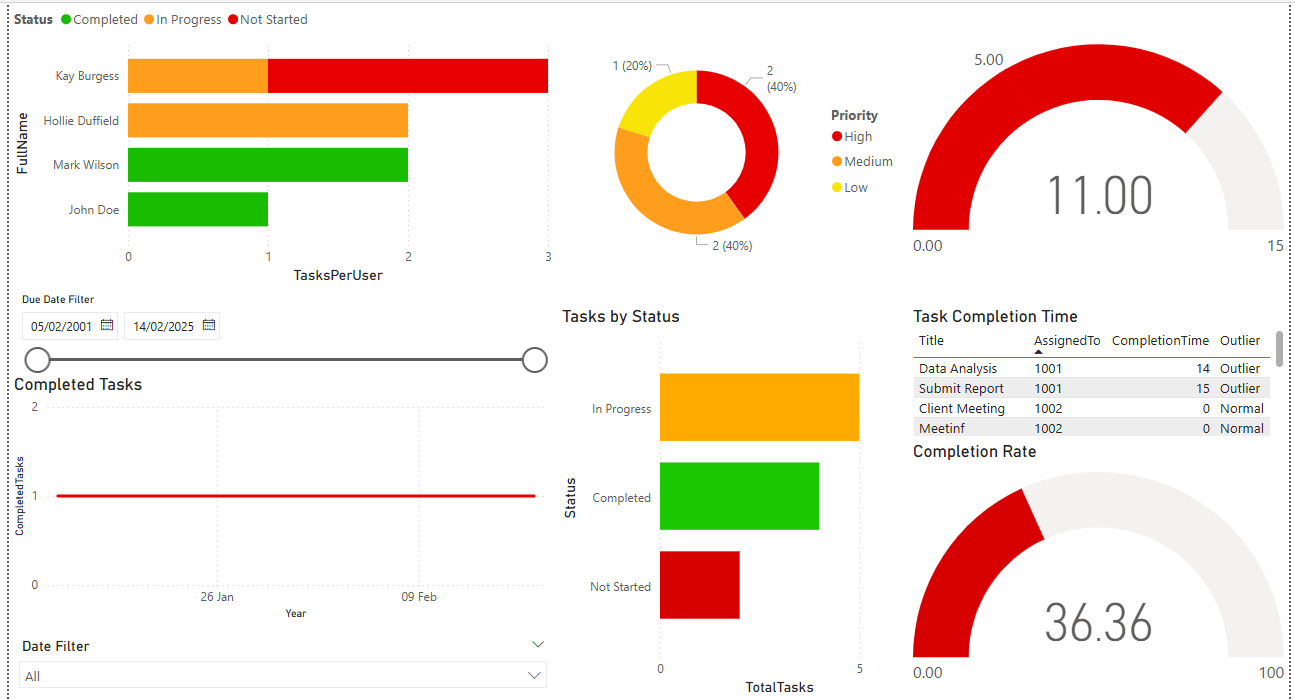

What the dashboard file says about the page in this screenshot:
{"tool":"powerbi","page":{"name":"Page 1","canvas":[1280,720],"ordinal":0},"visuals":[{"type":"donutChart","title":"Overdue Tasks","fields":{"Y":["cr862_tasks.OverdueTasks"],"Category":["cr862_tasks.Priority"]},"box":[547.5,0,351.2,326.2],"z":0},{"type":"barChart","title":"User Tasks","fields":{"Y":["cr862_tasks.TasksPerUser"],"Category":["cr862_users.FullName"],"Series":["cr862_tasks.Status"]},"box":[0,0,547.5,307.5],"z":1000},{"type":"gauge","title":"Average Completion Times (Days)","fields":{"Y":["cr862_tasks.AvgCompletionTime"],"TargetValue":["cr862_tasks.IdealCompletionTime"],"MaxValue":["cr862_tasks.MaxCompletionTime"]},"box":[898.8,0,381.2,326.2],"z":2000},{"type":"barChart","title":"Tasks by Status","fields":{"Category":["cr862_tasks.Status"],"Y":["cr862_tasks.TotalTasks"]},"box":[547.5,326.2,351.2,393.8],"z":3000},{"type":"lineChart","title":"Completed Tasks","fields":{"Y":["cr862_tasks.CompletedTasks"],"Category":["cr862_taskactivitylogtable.Date Submitted.Variation.Date Hierarchy.Year","cr862_taskactivitylogtable.Date Submitted.Variation.Date Hierarchy.Quarter","cr862_taskactivitylogtable.Date Submitted.Variation.Date Hierarchy.Month","cr862_taskactivitylogtable.Date Submitted.Variation.Date Hierarchy.Day"]},"box":[0,393.8,547.5,250],"z":4000},{"type":"slicer","fields":{"Values":["cr862_tasks.MonthYear","cr862_tasks.WeekNumber"]},"box":[0,652.5,547.5,67.5],"z":5000},{"type":"slicer","fields":{"Values":["cr862_tasks.DueDate"]},"box":[0,307.5,547.5,86.2],"z":6000},{"type":"gauge","title":"Completion Rate","fields":{"Y":["cr862_tasks.CompletionRate"],"MaxValue":["cr862_tasks.Percentage"]},"box":[898.8,461.2,381.2,258.8],"z":7000},{"type":"tableEx","title":"Task Completion Time","fields":{"Values":["cr862_tasks.Title 2","cr862_tasks.AssignedTo","cr862_tasks.ActualCompletionTime","cr862_tasks.IsOutlier"]},"box":[898.8,326.2,381.2,135],"z":8000}]}

Visuals, with their boxes on the page's 1280x720 design canvas (x1, y1, x2, y2). These are canvas units, not pixel positions in the 1295x699 screenshot, which may show the page scaled, cropped or inside an application window:
"Overdue Tasks" donutChart: pyautogui.locateOnScreen(548, 0, 899, 326)
"User Tasks" barChart: pyautogui.locateOnScreen(0, 0, 548, 308)
"Average Completion Times (Days)" gauge: pyautogui.locateOnScreen(899, 0, 1280, 326)
"Tasks by Status" barChart: pyautogui.locateOnScreen(548, 326, 899, 720)
"Completed Tasks" lineChart: pyautogui.locateOnScreen(0, 394, 548, 644)
slicer - cr862_tasks.MonthYear x cr862_tasks.WeekNumber: pyautogui.locateOnScreen(0, 652, 548, 720)
slicer - cr862_tasks.DueDate: pyautogui.locateOnScreen(0, 308, 548, 394)
"Completion Rate" gauge: pyautogui.locateOnScreen(899, 461, 1280, 720)
"Task Completion Time" tableEx: pyautogui.locateOnScreen(899, 326, 1280, 461)
